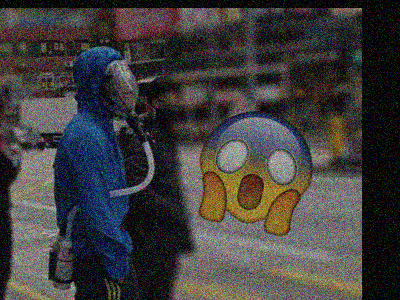with_mask: (106, 73, 140, 117), (151, 96, 182, 133)
